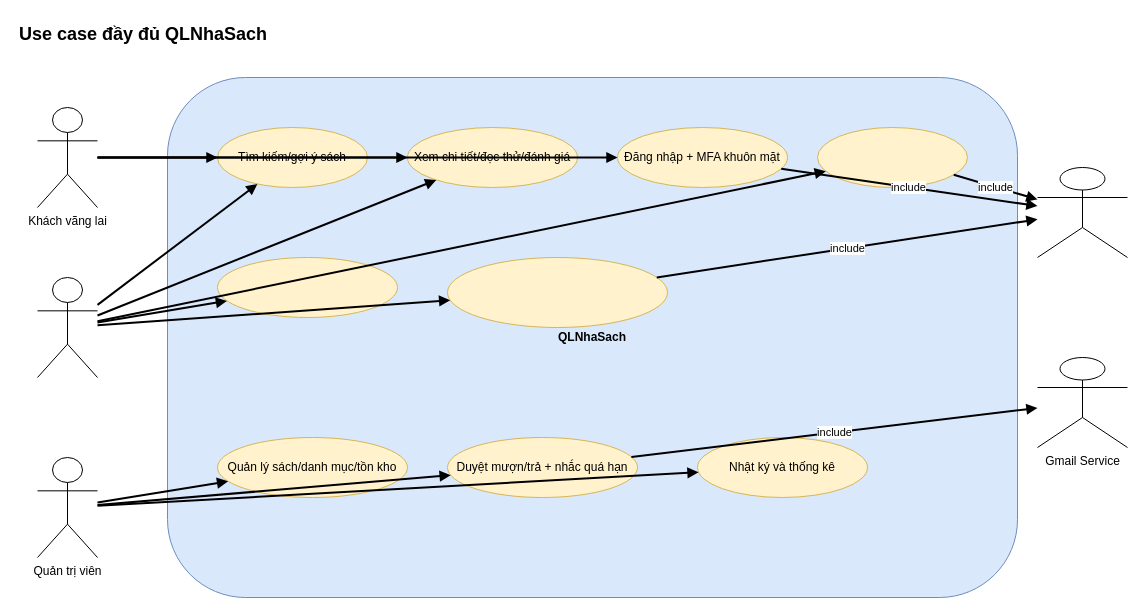
The diagram is 1145 pixels wide and 615 high, and some of its shapes have lost their labels. The centre of each missing label's shape, as x and y in pixels:
"Flask Face API" belongs at (1082,212).
"Mượn sách: tồn kho + geofence + face" belongs at (557,292).
"Người dùng" belongs at (67,327).
"OCR CMND/CCCD" belongs at (892,157).
"Yêu thích/giỏ hàng/đặt hàng" belongs at (307,287).
